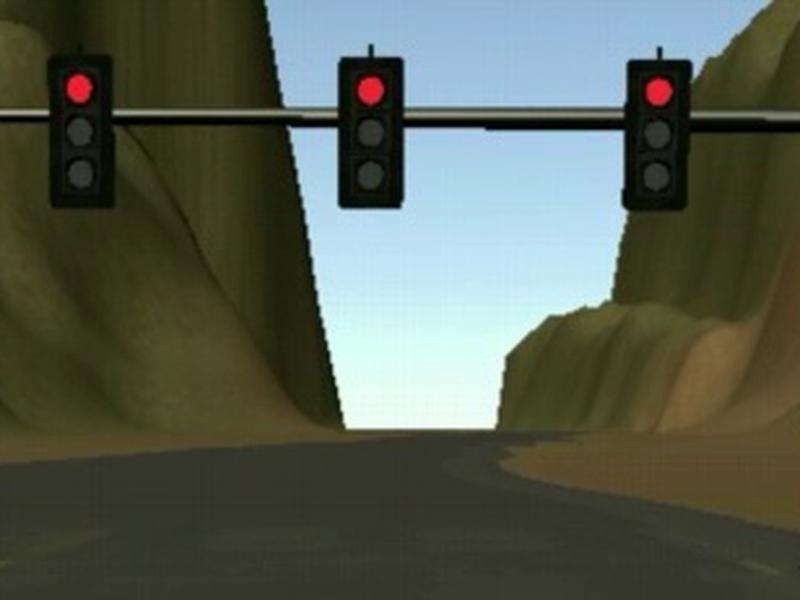Red: (624, 59, 692, 210), (338, 57, 403, 209), (49, 54, 112, 209)
